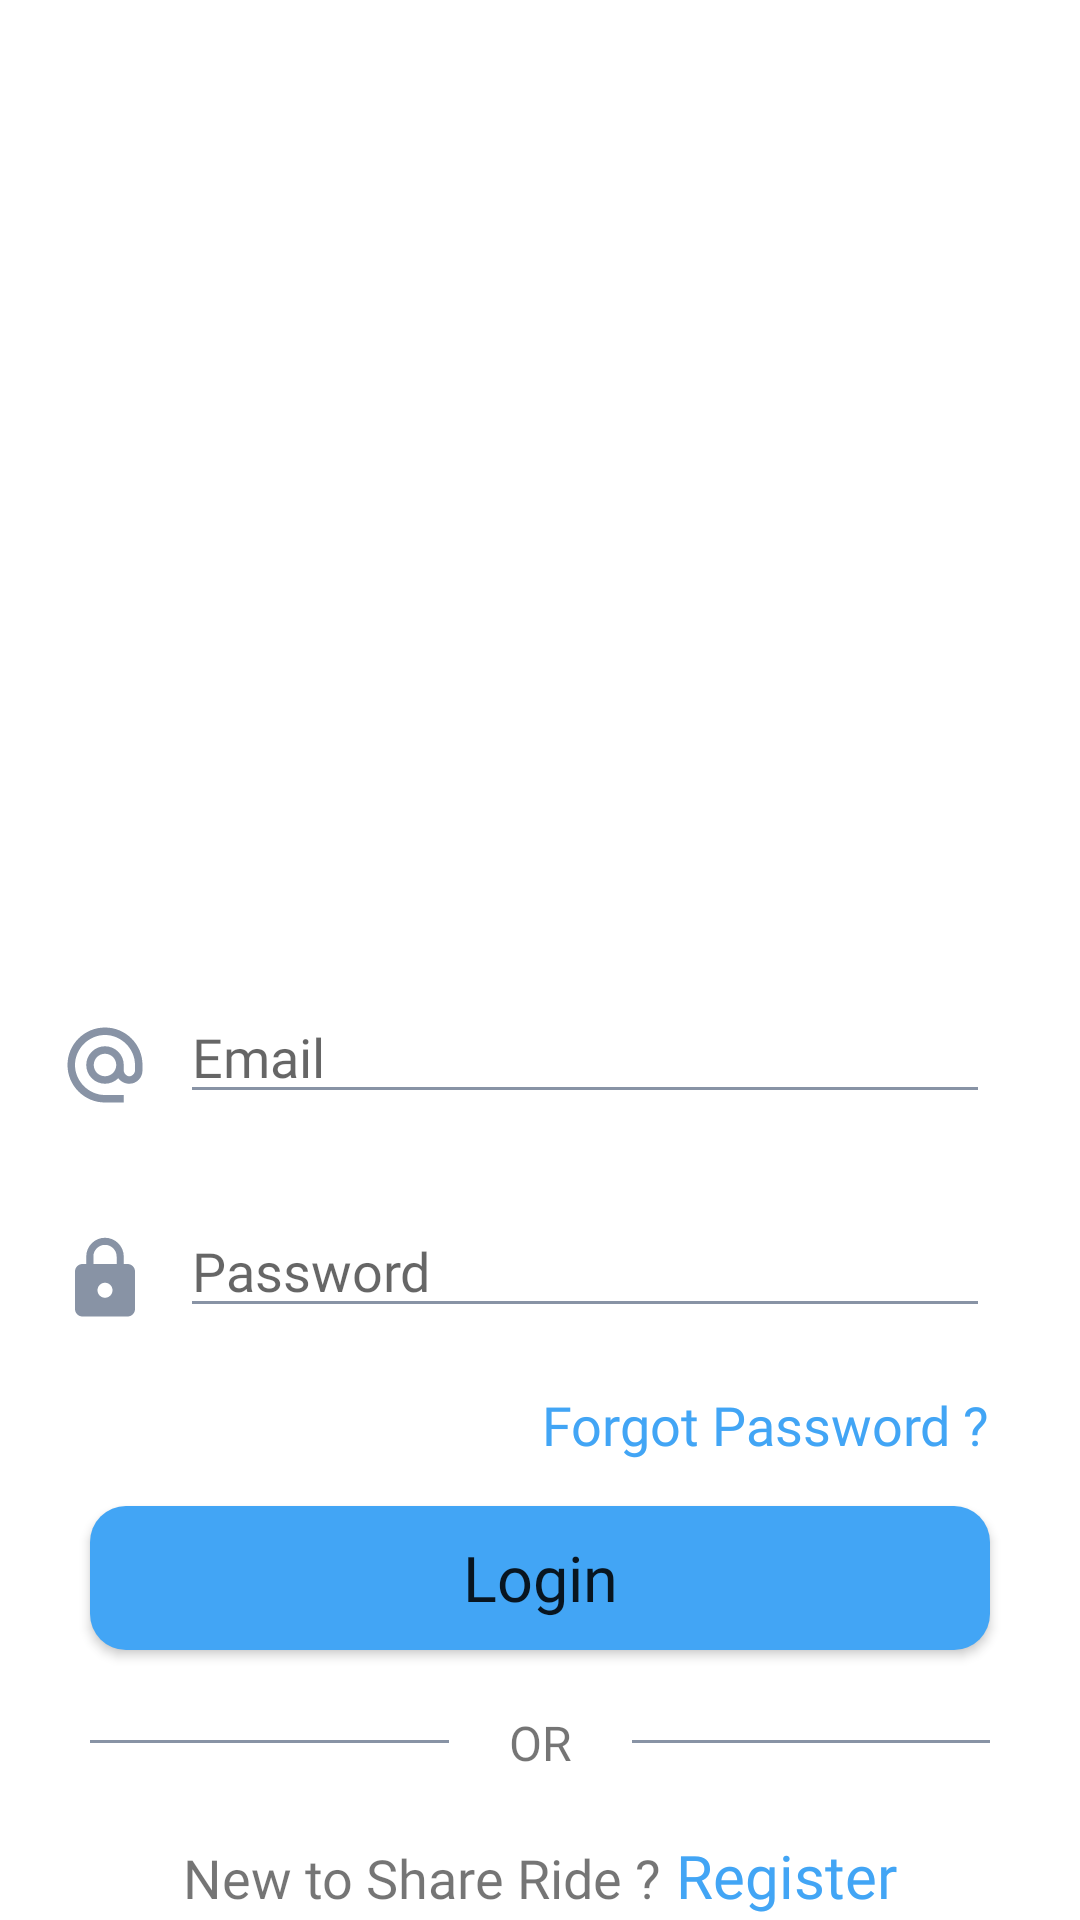

Screen size 1080 x 1920. Icon name, then its box in pixels as (x1, y1, x2, y2):
lock: (75, 1237, 135, 1317)
